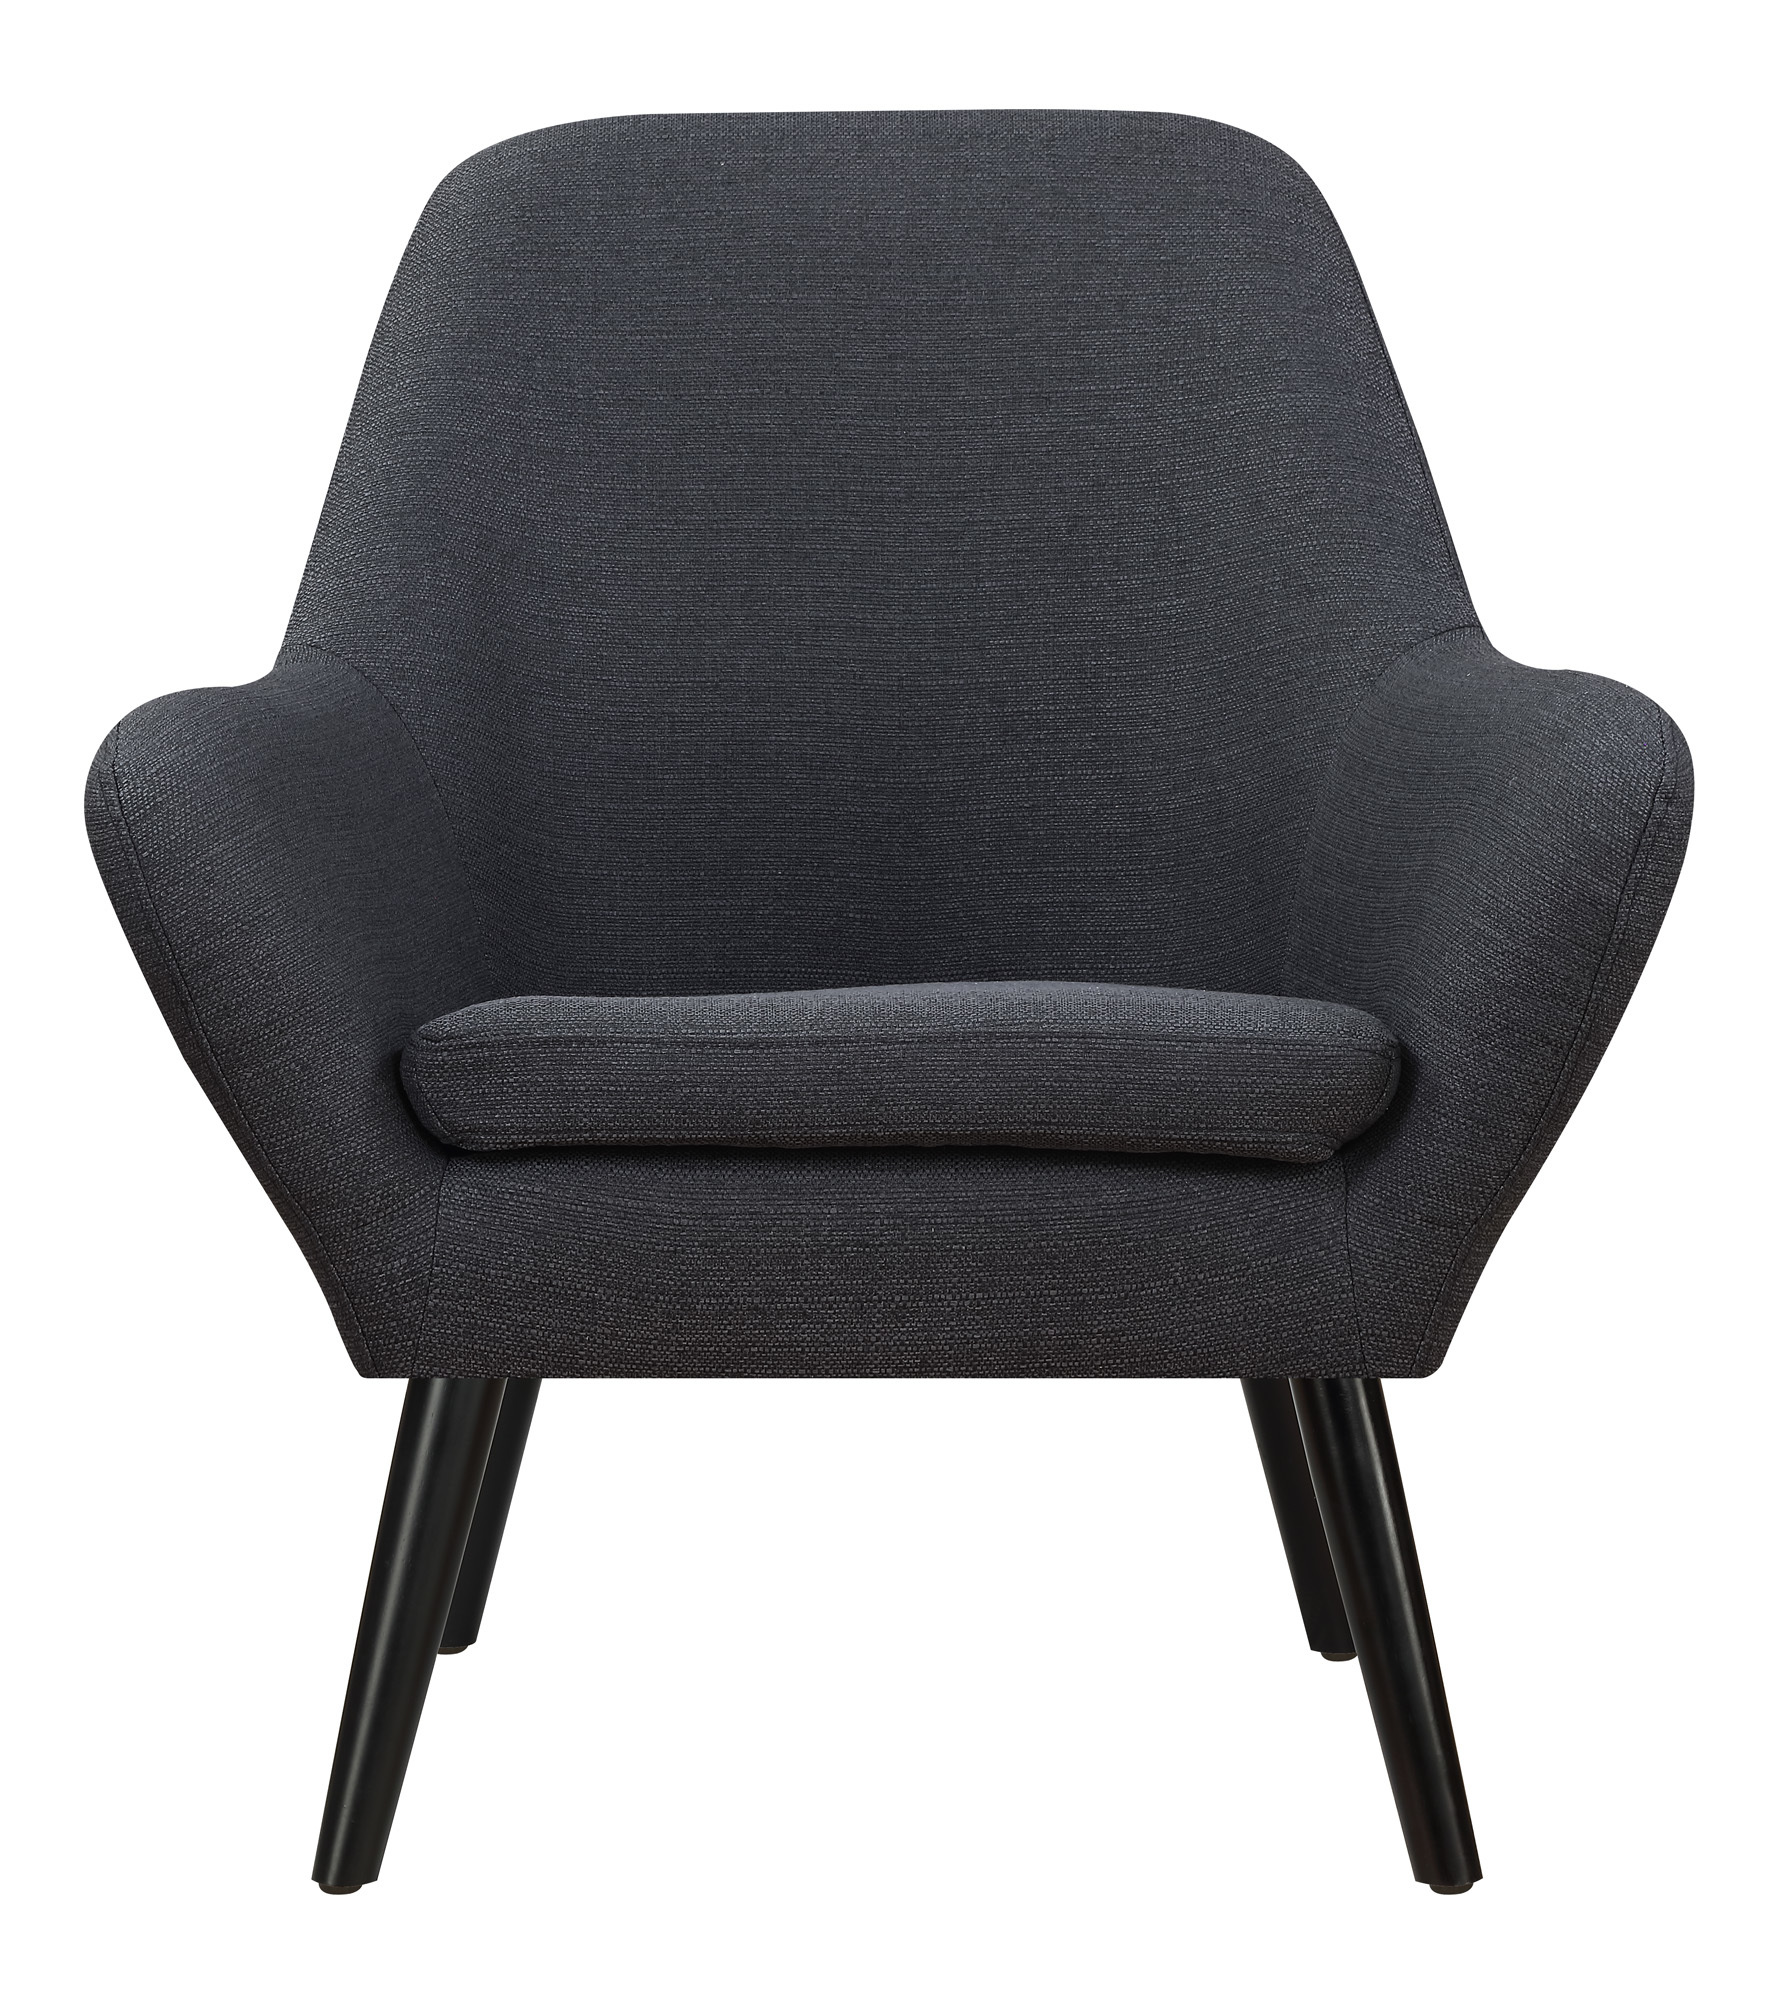chairs: (81, 102, 1700, 1915)
